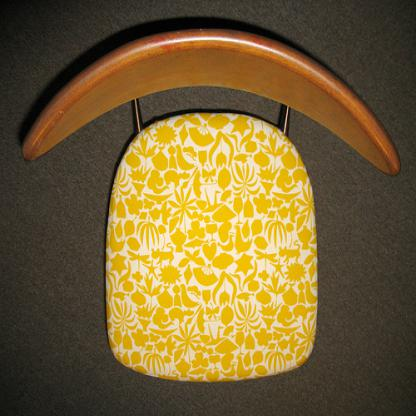chair: (22, 26, 402, 382)
